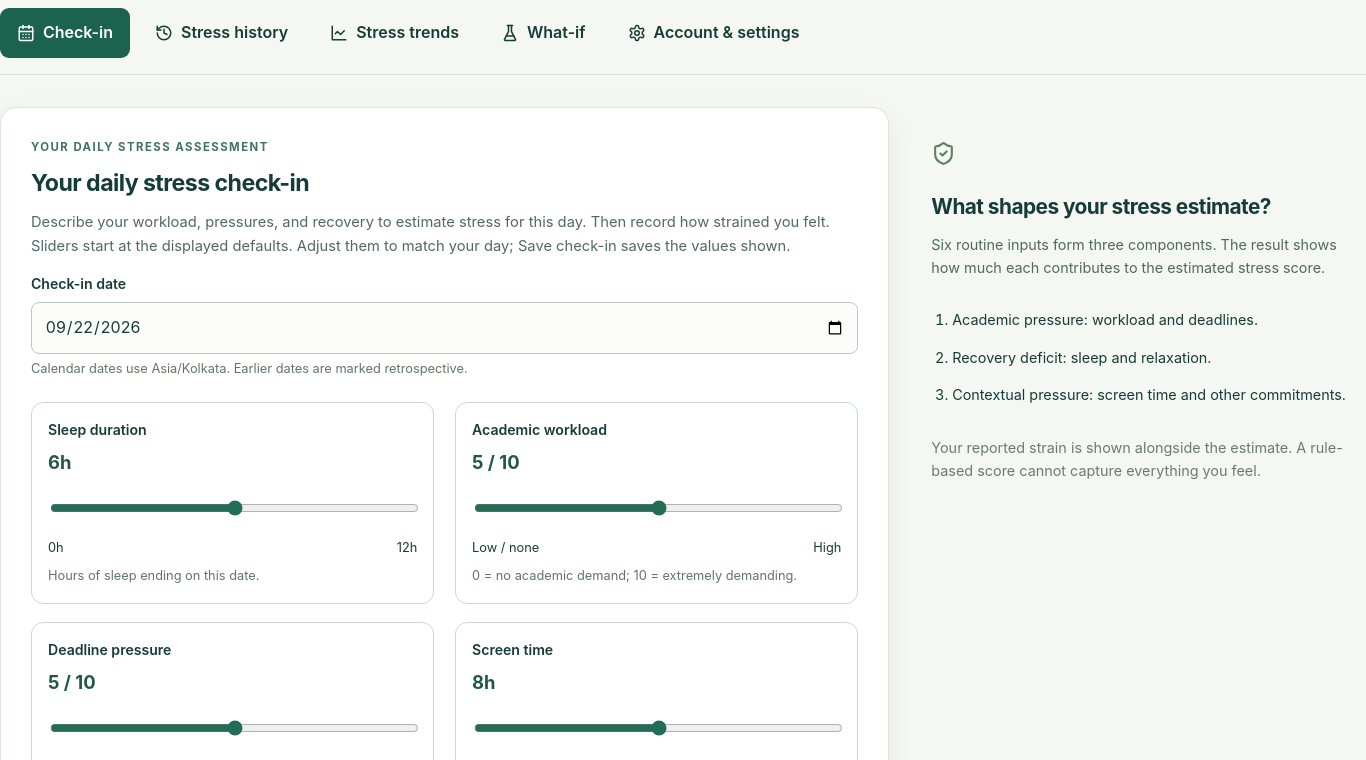
Test: offers timezone choices and no AI or prediction controls
Click the button "Account & settings".
click(713, 33)  # box 610,8 -> 816,58
(page scrolled)
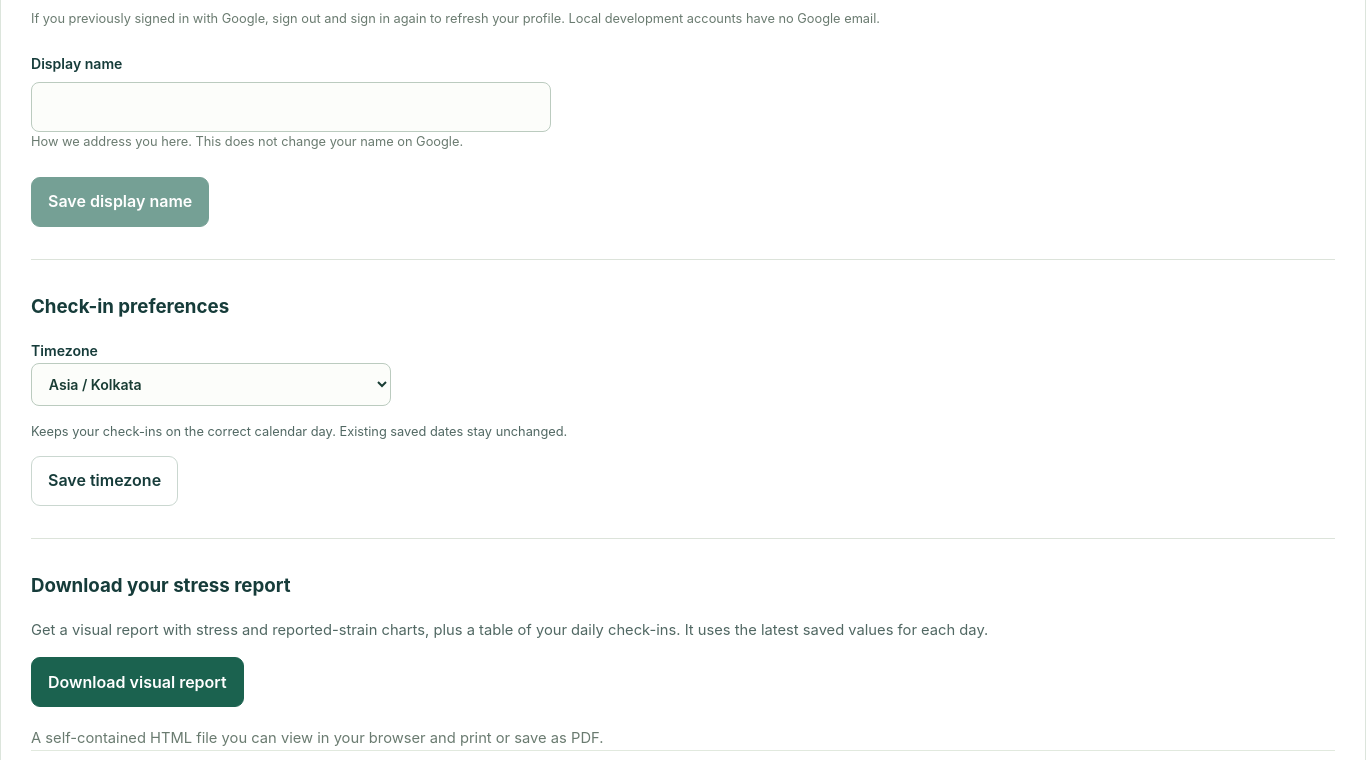
Check: the field labelled "Display name" is shown, box 31,82 -> 551,132
Check: the dropdown labelled "Timezone" shows "Asia / Kolkata", box 31,363 -> 391,406
